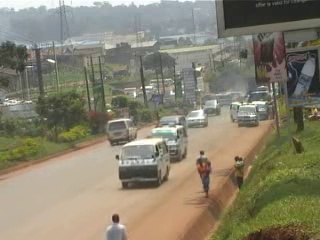Car: (185, 106, 209, 130), (200, 97, 221, 116)
